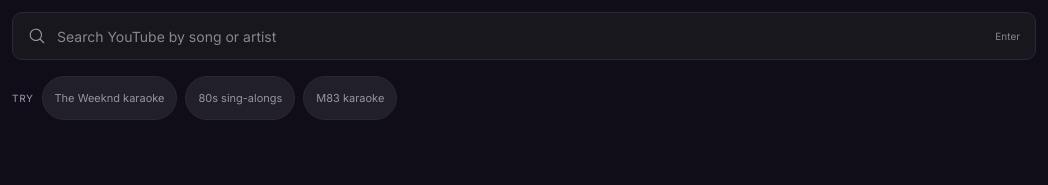
Test case: song search panel › marks a song that is already active as queued and disables adding it
Type "dancing queen" into the field named "find a song on youtube" at (524, 36), box [12,12,1036,60]
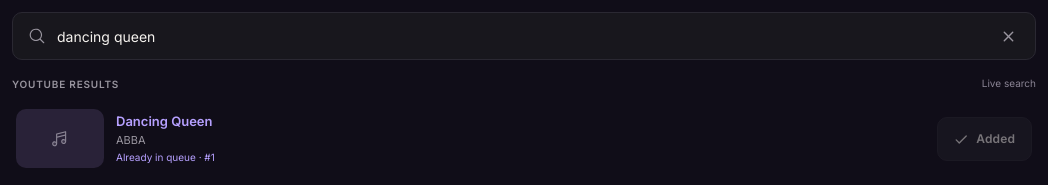
Result: the text "Already in queue · #1" is shown at [116,151,215,163]
Result: the button with aria-label "already in the queue" is disabled at [937,117,1032,161]
